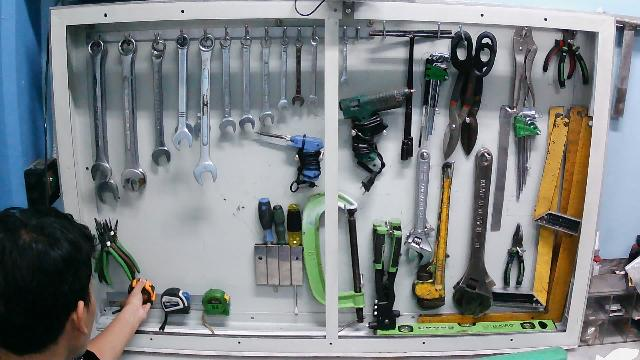meteran: (122, 276, 158, 316)
